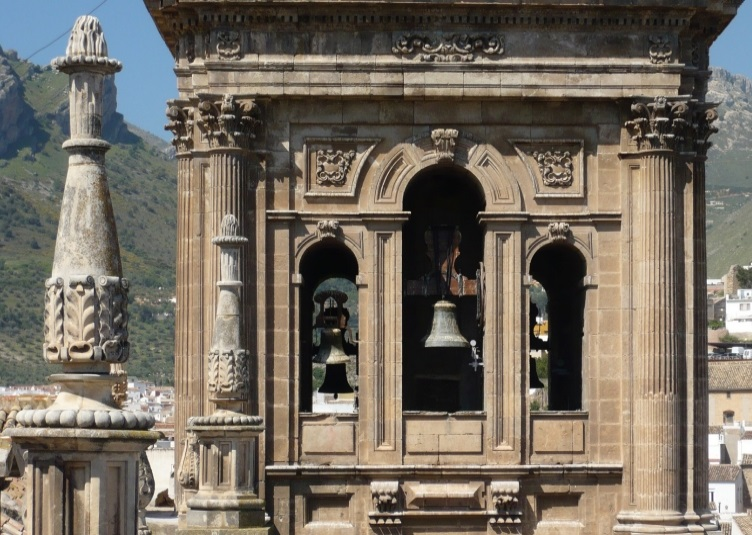arco-medio-punto: (394, 155, 494, 227), (286, 232, 367, 288), (524, 236, 597, 291)
